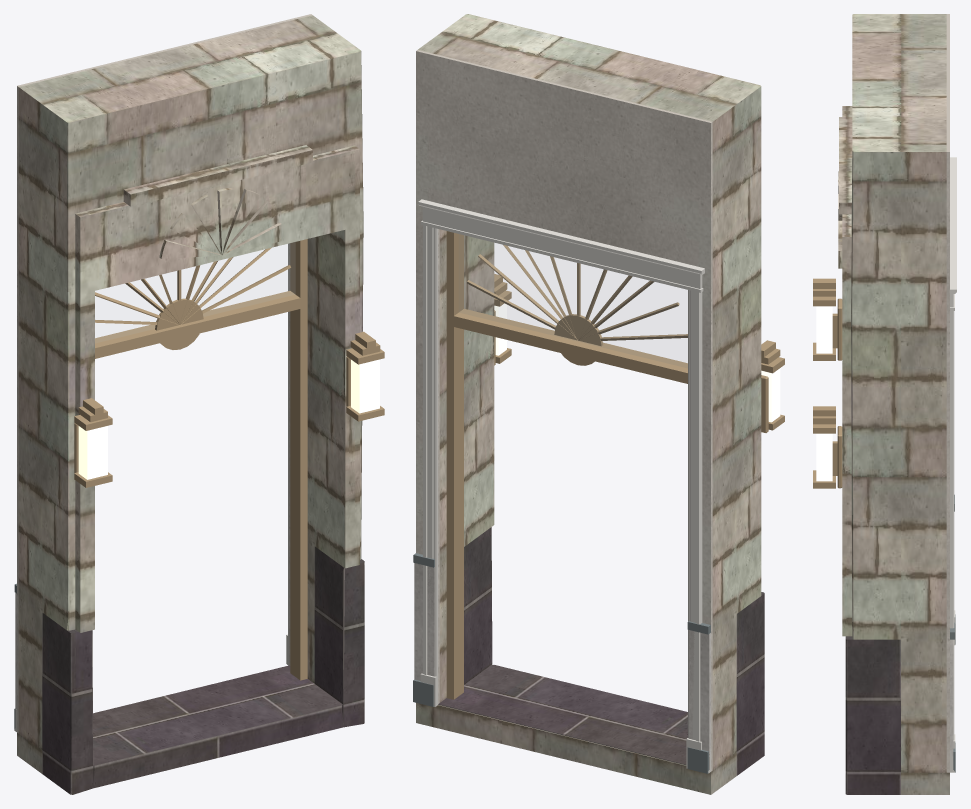
File: g_door.glb
3 views of the same model, side by side, from view 1: azimuth 30°, elevation 25°; view 2: azimuth 150°, elevation 25°; view 3: azimuth 270°, elevation 25° (orthographic). The views are drawn at different scales.
Visible parts, largest first — view 1: g_door_stone, g_door_granite, g_door_bronze, g_door_glass, g_door_lamp_glass, g_door_plaster; view 2: g_door_stone, g_door_plaster, g_door_granite, molduras, g_door_bronze, g_door_glass, g_door_marble, g_door_marble_d, g_door_lamp_glass; view 3: g_door_stone, g_door_granite, g_door_plaster, molduras, g_door_bronze, g_door_lamp_glass, g_door_marble.
Boxes of the visible parts, x1,y1,x2,y2 form: g_door_stone: (17, 15, 363, 773); g_door_granite: (42, 546, 364, 794); g_door_bronze: (74, 239, 384, 680); g_door_glass: (95, 243, 294, 342); g_door_lamp_glass: (78, 359, 379, 479); g_door_plaster: (17, 14, 312, 733); g_door_stone: (416, 14, 761, 794); g_door_plaster: (416, 50, 712, 771); g_door_granite: (438, 527, 764, 775); molduras: (418, 199, 710, 773); g_door_bronze: (446, 231, 784, 699); g_door_glass: (459, 235, 687, 367); g_door_marble: (414, 563, 710, 769); g_door_marble_d: (413, 553, 710, 773); g_door_lamp_glass: (494, 303, 780, 422); g_door_stone: (838, 14, 949, 794); g_door_granite: (845, 636, 900, 794); g_door_plaster: (946, 14, 949, 772); molduras: (950, 157, 956, 772); g_door_bronze: (813, 278, 842, 488); g_door_lamp_glass: (816, 306, 832, 481); g_door_marble: (950, 639, 953, 769).
Bounding box in the file's own units: 2.03 × 4.35 × 0.882.
Materials: 9 (4 with a texture image).
